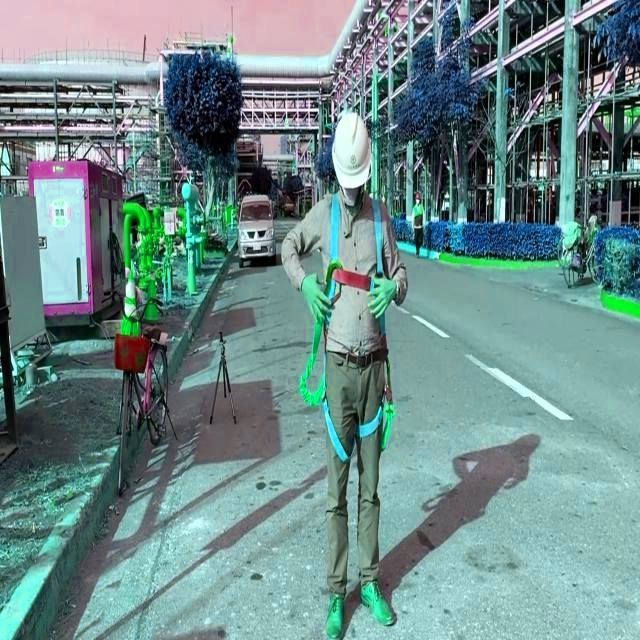safety belt: (299, 186, 417, 453)
